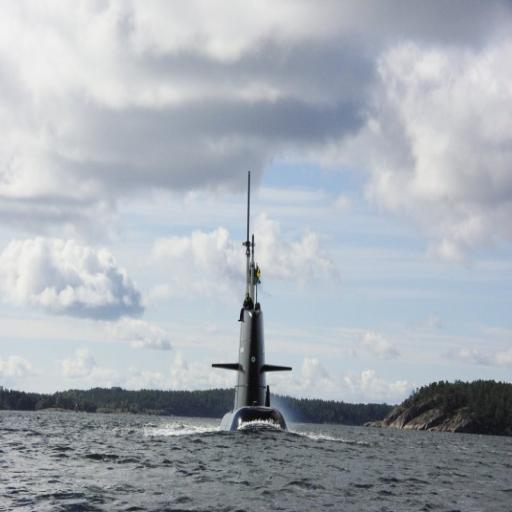submarine: (211, 158, 290, 430)
